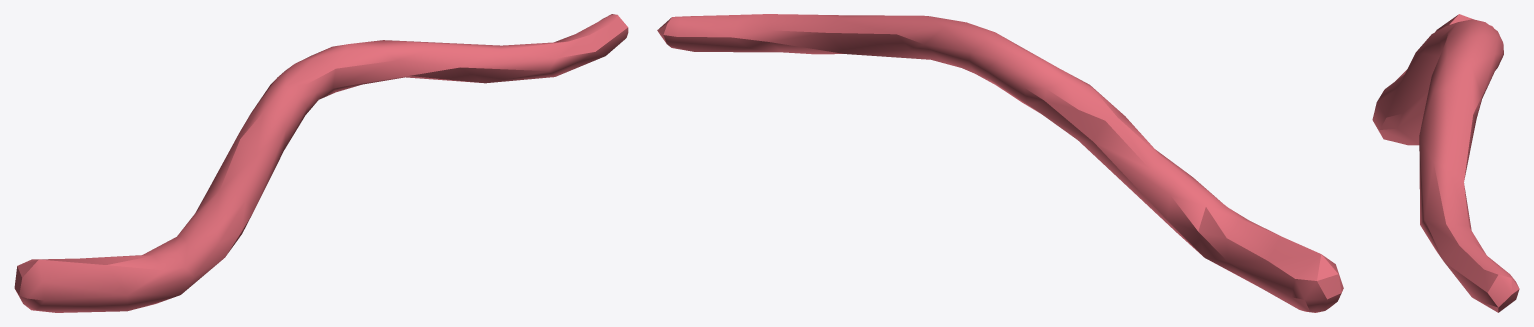
File: fma3807_fj2676.glb
The picture shows the model from 3 angles, left to right: view 1: azimuth 30°, elevation 25°; view 2: azimuth 150°, elevation 25°; view 3: azimuth 270°, elevation 25°; orthographic projection. The views are drawn at different scales.
Visible parts, largest first — view 1: FMA3807_FJ2676; view 2: FMA3807_FJ2676; view 3: FMA3807_FJ2676.
Boxes of the visible parts, bbox=[...] form: FMA3807_FJ2676: bbox=[14, 14, 628, 312]; FMA3807_FJ2676: bbox=[657, 14, 1343, 312]; FMA3807_FJ2676: bbox=[1372, 14, 1519, 312].
Size of the model in its own units: 0.0143 by 0.0042 by 0.00225.
